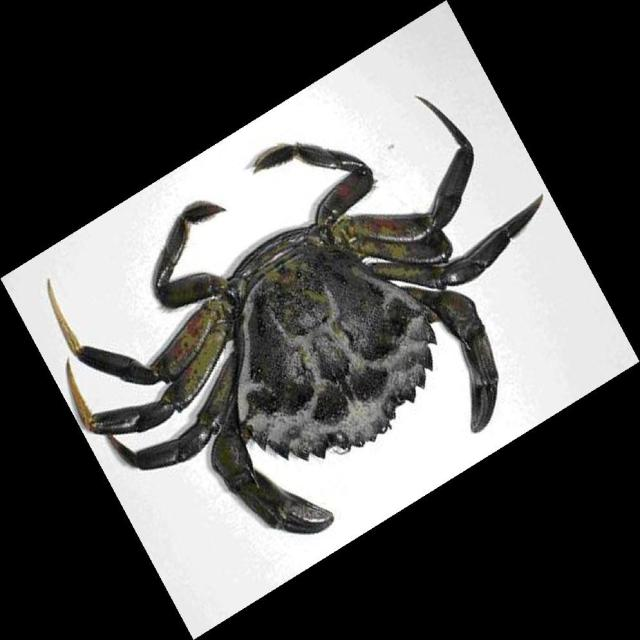European Green crab: (48, 96, 543, 534)
